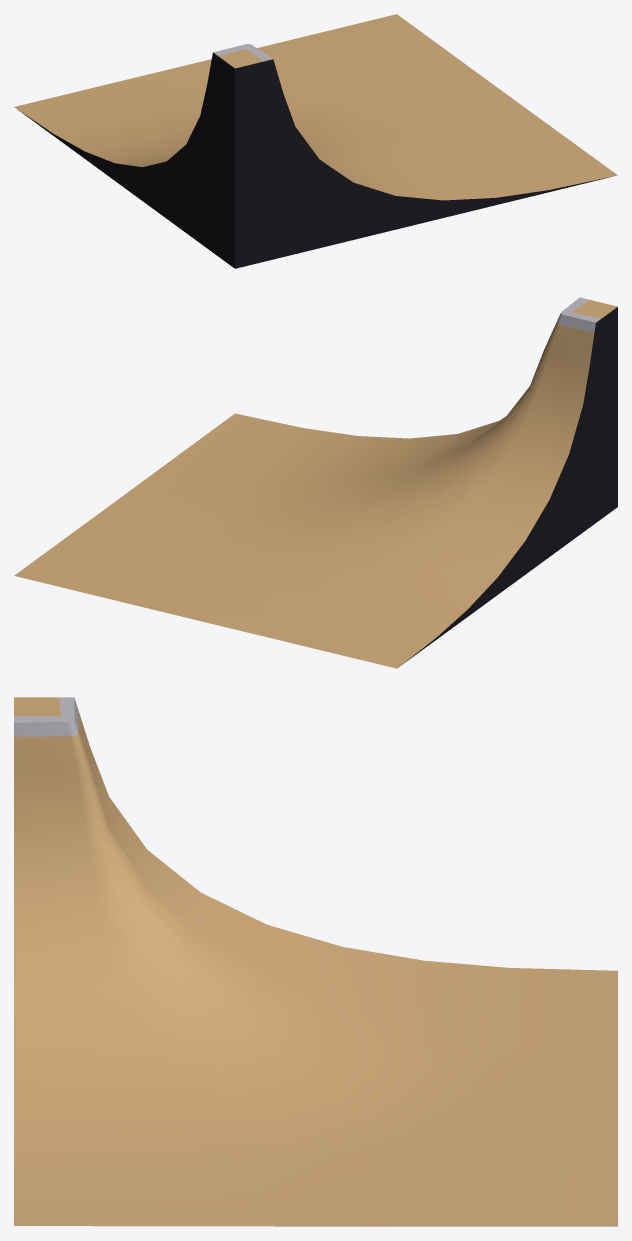
The model's file is Quater_SML_Corner.fbx.
3 views of the same model, one above another, from view 1: azimuth 30°, elevation 25°; view 2: azimuth 150°, elevation 25°; view 3: azimuth 270°, elevation 25° (orthographic). The views are drawn at different scales.
Parts seen in each view (by area): view 1: Quater_SML_Corner; view 2: Quater_SML_Corner; view 3: Quater_SML_Corner.
Boxes of the visible parts, <box> form: Quater_SML_Corner: <box>14,14,617,268</box>; Quater_SML_Corner: <box>14,297,617,668</box>; Quater_SML_Corner: <box>14,697,617,1226</box>.
Bounding box in the file's own units: 10 × 5.01 × 10.
